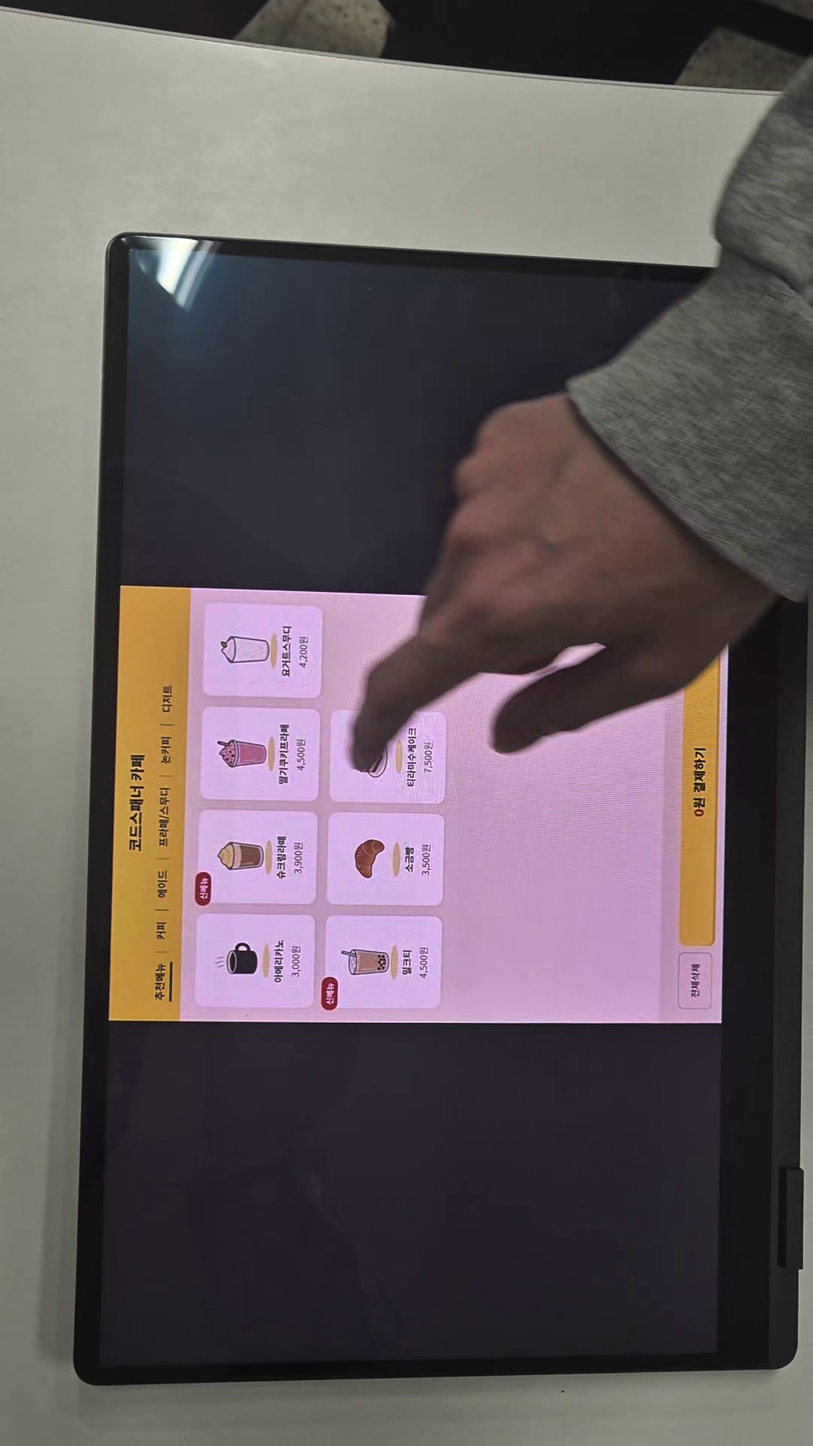action_button: (678, 621, 718, 945), (677, 952, 715, 1006)
category_tab: (156, 784, 173, 852), (150, 959, 169, 1001), (158, 676, 176, 719), (155, 731, 173, 768), (153, 867, 169, 901), (153, 918, 169, 944)
menu_back: (331, 707, 447, 804), (203, 603, 322, 697), (201, 708, 318, 802), (200, 810, 317, 904), (195, 913, 313, 1005), (330, 814, 444, 908), (326, 916, 442, 1007)
menu_name: (275, 721, 292, 786), (403, 723, 417, 792), (278, 622, 294, 681), (275, 832, 290, 880), (271, 935, 285, 983), (402, 944, 415, 978), (403, 839, 415, 875)
menu_price: (296, 632, 313, 671), (293, 835, 306, 881), (295, 733, 308, 778), (291, 941, 306, 980), (422, 740, 435, 780), (419, 837, 432, 876), (420, 946, 433, 979)
